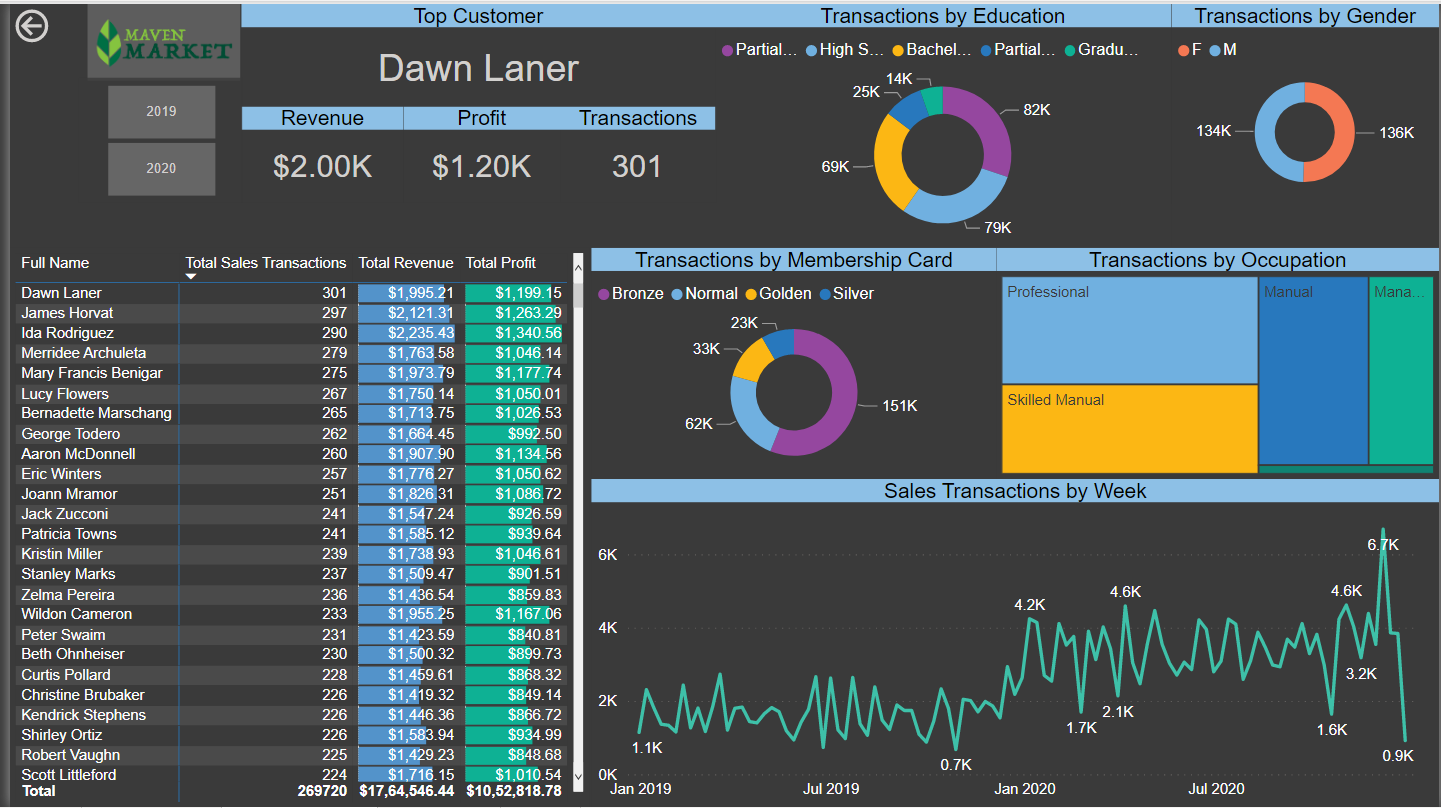

The page's visual inventory and layout, read from the dashboard file:
{"tool":"powerbi","page":{"name":"Customer Level","canvas":[1280,720],"ordinal":2},"visuals":[{"type":"image","box":[69.2,0,137.2,69.2],"z":0},{"type":"card","title":"Top Customer","fields":{"Values":["CustomerLookup.Full Name"]},"box":[207.1,0,424.7,91.9],"z":1000},{"type":"card","title":"Revenue","fields":{"Values":["SalesData.Total Revenue"]},"box":[207.1,91.9,145.5,86.1],"z":2000},{"type":"card","title":"Profit","fields":{"Values":["SalesData.Total Profit"]},"box":[352.6,91.9,139.6,86.1],"z":3000},{"type":"pivotTable","fields":{"Rows":["CustomerLookup.Full Name"],"Values":["SalesData.Total Sales Transactions","SalesData.Total Revenue","SalesData.Total Profit"]},"box":[0,218.8,519,501.5],"z":4000},{"type":"card","title":"Transactions","fields":{"Values":["SalesData.Total Sales Transactions"]},"box":[492.2,91.9,139.6,86.1],"z":5000},{"type":"donutChart","title":"Transactions by Gender","fields":{"Y":["SalesData.Total Sales Transactions"],"Category":["CustomerLookup.gender"]},"box":[1040.3,0,239.7,178],"z":6000},{"type":"donutChart","title":"Transactions by Education","fields":{"Category":["CustomerLookup.education"],"Y":["SalesData.Total Sales Transactions"]},"box":[631.9,0,408.4,218.8],"z":7000},{"type":"slicer","fields":{"Values":["CalendarLookup.Year"]},"box":[61.2,65.8,146.3,112.3],"z":8000},{"type":"treemap","title":"Transactions by Occupation","fields":{"Group":["CustomerLookup.occupation"],"Values":["SalesData.Total Sales Transactions"]},"box":[883.2,218.8,396.8,207.1],"z":9000},{"type":"donutChart","title":"Transactions by Membership Card","fields":{"Category":["CustomerLookup.member_card"],"Y":["SalesData.Total Sales Transactions"]},"box":[520.1,218.8,363.1,207.1],"z":10000},{"type":"lineChart","title":"Sales Transactions by Week","fields":{"Y":["SalesData.Total Sales Transactions"],"Category":["CalendarLookup.Start of Week"]},"box":[520.1,425.9,759.9,294.4],"z":11000},{"type":"actionButton","box":[0,0,68.7,39.6],"z":12000}]}

Visuals, with their boxes in screenshot pixels (x1, y1, x2, y2), scaled from the page's 1280x720 canvas onto the 1441x808 screenshot:
image: [left=78, top=0, right=232, bottom=78]
"Top Customer" card: [left=233, top=0, right=711, bottom=103]
"Revenue" card: [left=233, top=103, right=397, bottom=200]
"Profit" card: [left=397, top=103, right=554, bottom=200]
pivotTable - CustomerLookup.Full Name x SalesData.Total Sales Transactions: [left=0, top=246, right=584, bottom=807]
"Transactions" card: [left=554, top=103, right=711, bottom=200]
"Transactions by Gender" donutChart: [left=1171, top=0, right=1440, bottom=200]
"Transactions by Education" donutChart: [left=711, top=0, right=1171, bottom=246]
slicer - CalendarLookup.Year: [left=69, top=74, right=234, bottom=200]
"Transactions by Occupation" treemap: [left=994, top=246, right=1440, bottom=478]
"Transactions by Membership Card" donutChart: [left=586, top=246, right=994, bottom=478]
"Sales Transactions by Week" lineChart: [left=586, top=478, right=1440, bottom=807]
actionButton: [left=0, top=0, right=77, bottom=44]
